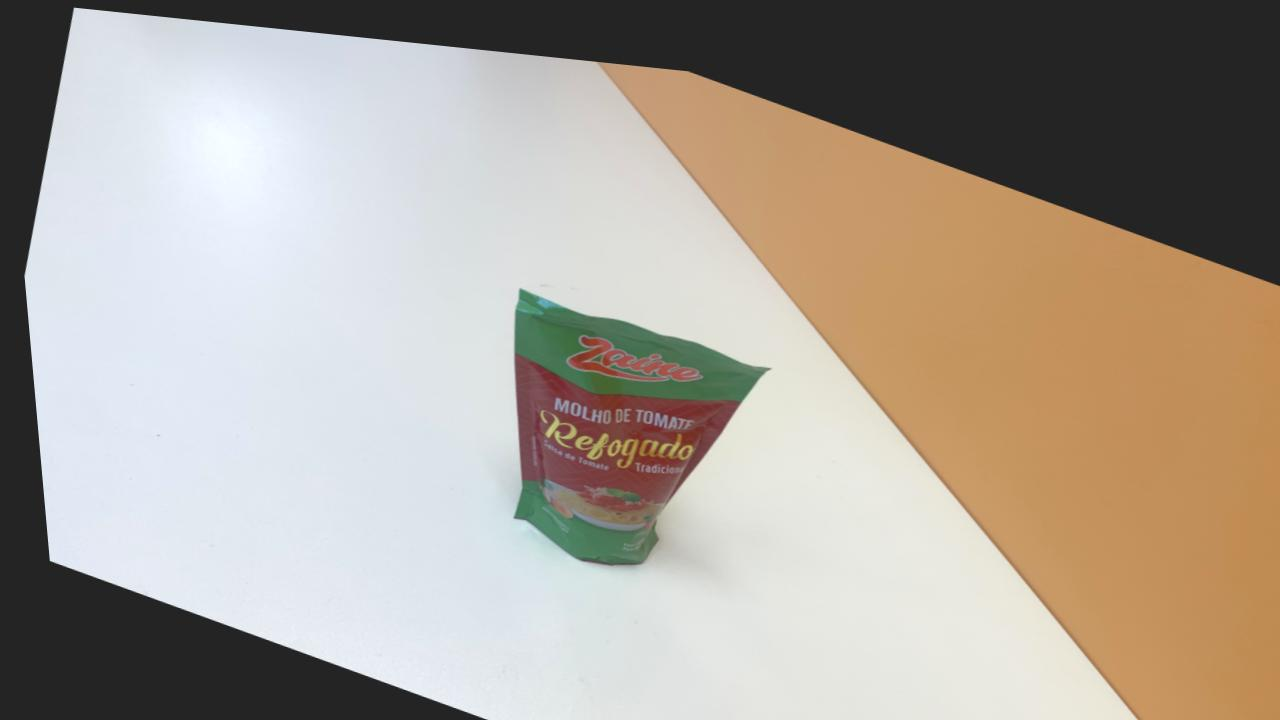Tomato_Sauce-Pantry_Items: (503, 280, 762, 556)
